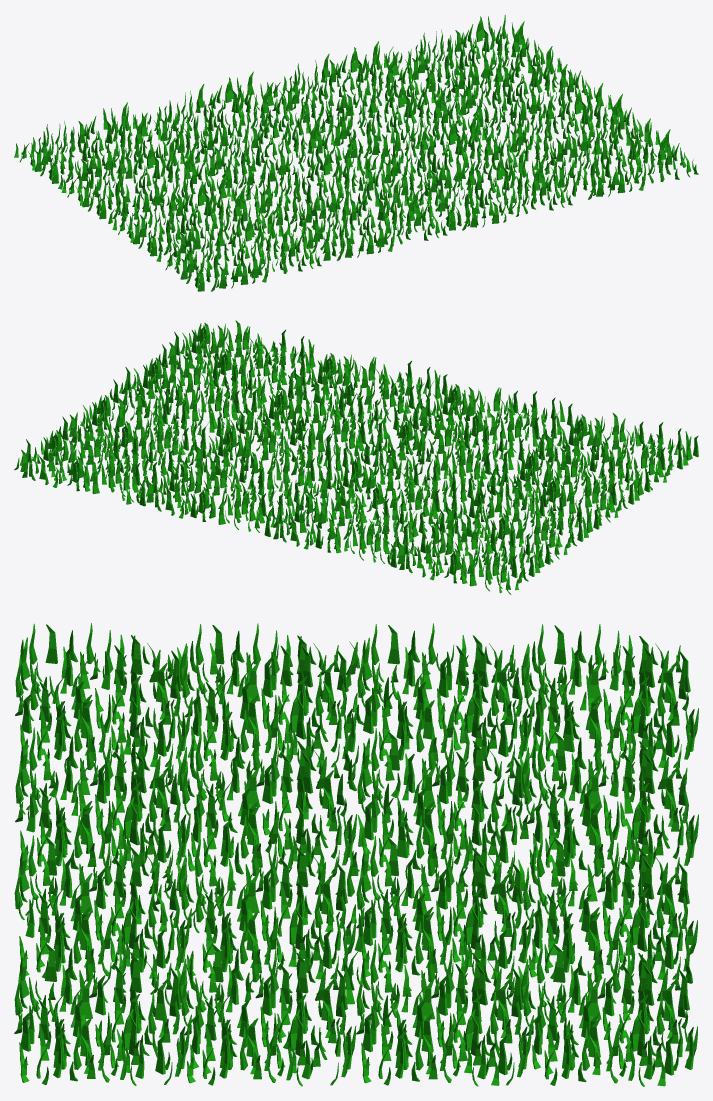
Rendered from Gras Blender.fbx.
The picture shows the model from 3 angles, top to bottom: view 1: azimuth 30°, elevation 25°; view 2: azimuth 150°, elevation 25°; view 3: azimuth 270°, elevation 25°; orthographic projection. The views are drawn at different scales.
Parts seen in each view (by area): view 1: Gras; view 2: Gras; view 3: Gras.
Boxes of the visible parts, x1=… form: Gras: x1=14, y1=14, x2=698, y2=291; Gras: x1=14, y1=320, x2=698, y2=594; Gras: x1=14, y1=623, x2=698, y2=1086.
Bounding box in the file's own units: 2766 × 133 × 1885.
